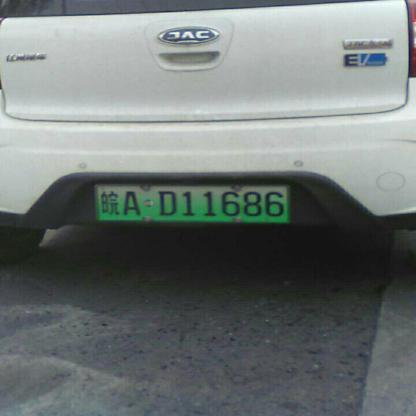lp: (97, 185, 289, 222)
